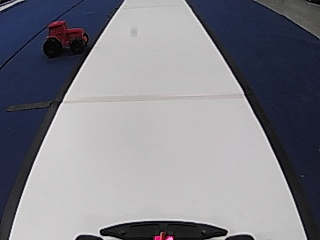tractor: (40, 18, 88, 57)
